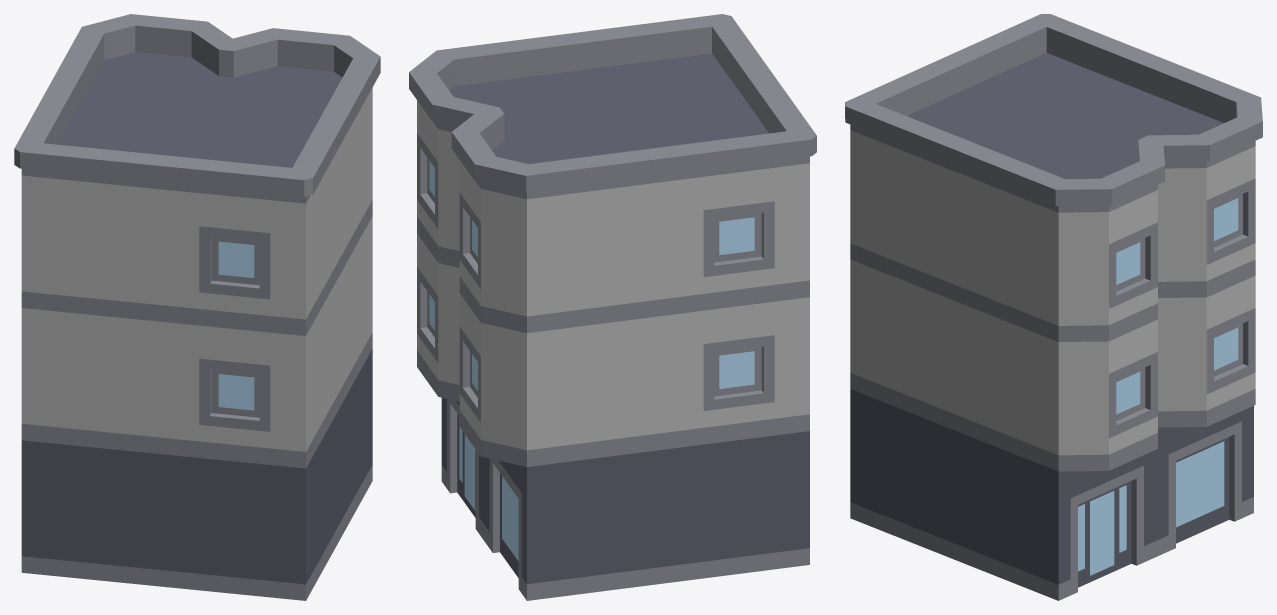
Rendered from variant_44.fbx.
The picture shows the model from 3 angles, left to right: view 1: azimuth 30°, elevation 25°; view 2: azimuth 150°, elevation 25°; view 3: azimuth 270°, elevation 25°; orthographic projection. The views are drawn at different scales.
Parts seen in each view (by area): view 1: small_buildingA; view 2: small_buildingA; view 3: small_buildingA.
Boxes of the visible parts, x1,y1,x2,y2 form: small_buildingA: [14, 14, 380, 600]; small_buildingA: [409, 14, 816, 600]; small_buildingA: [845, 14, 1262, 600].
Size of the model in its own units: 117 by 128 by 117.
